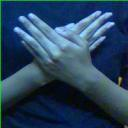hand: (13, 12, 93, 89), (30, 10, 116, 81)
